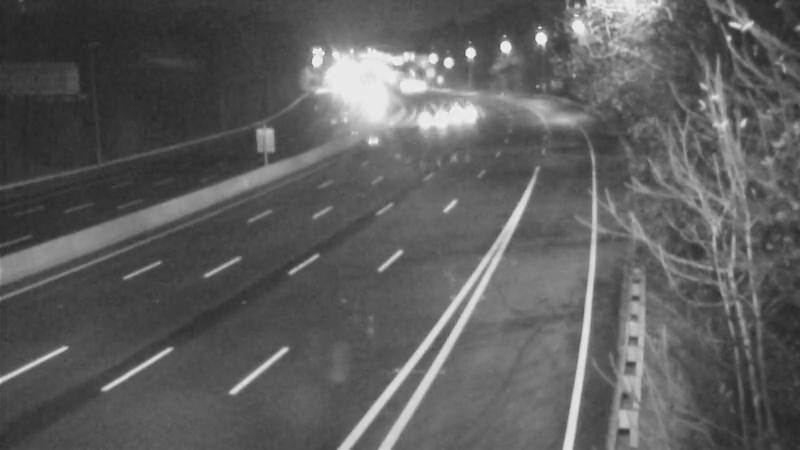vehicle: (433, 82, 483, 132), (399, 91, 449, 141)
